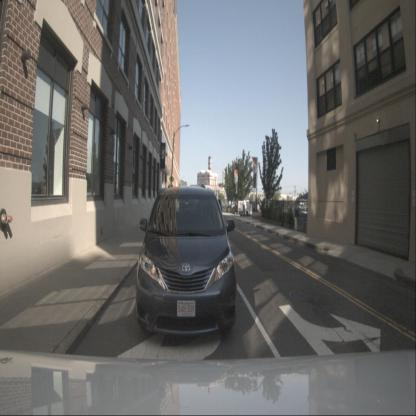vehicle-car: (134, 184, 236, 338), (296, 207, 308, 218)
